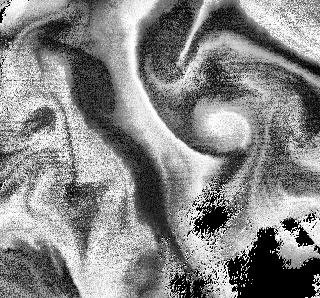CE: (178, 80, 272, 165)
